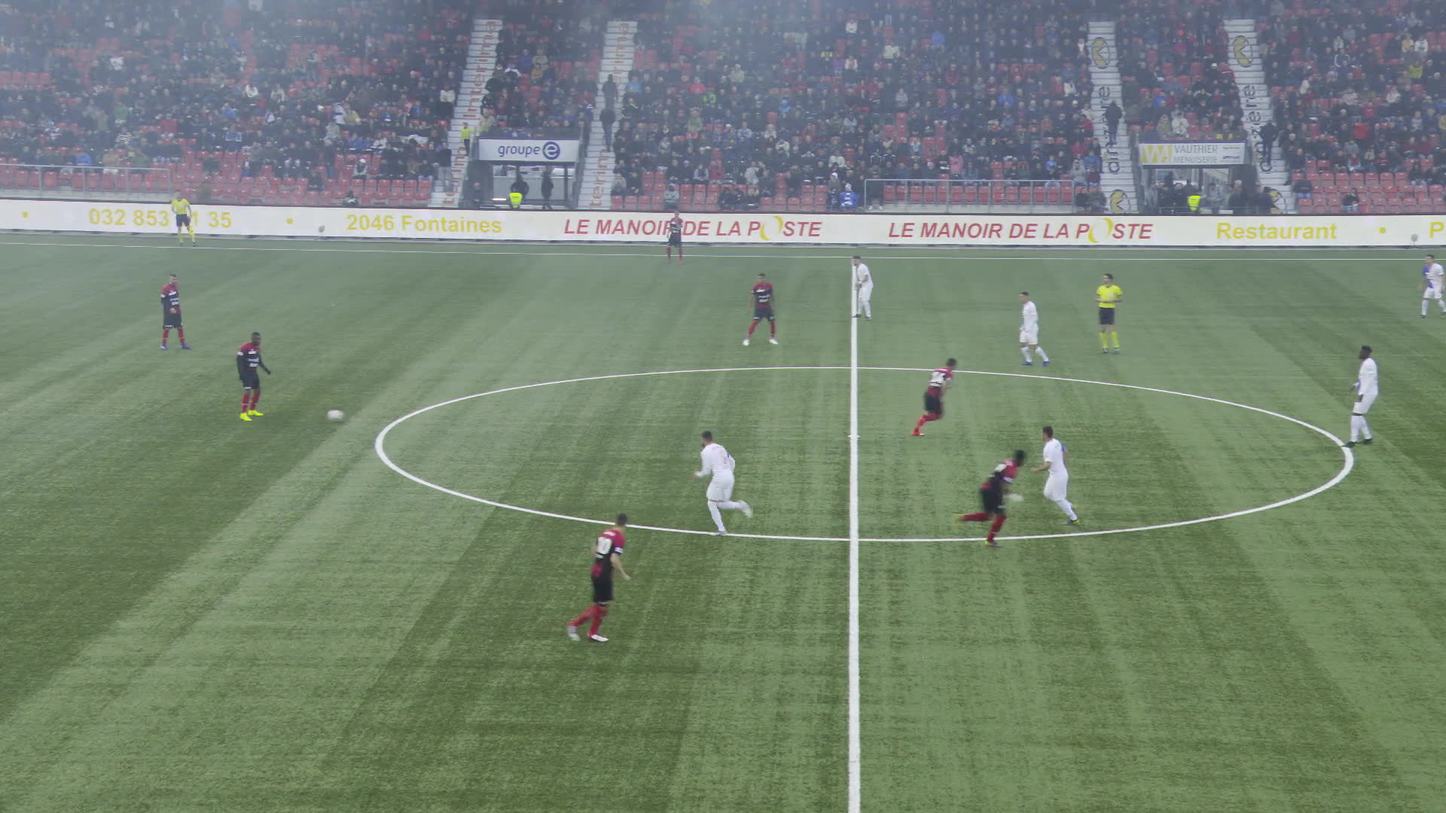ball: (337, 410, 352, 421)
player: (557, 511, 634, 641), (939, 447, 1017, 545), (698, 430, 756, 540), (1040, 424, 1093, 525), (889, 356, 953, 434), (1340, 344, 1374, 447), (233, 331, 266, 419), (740, 271, 776, 346), (154, 273, 185, 349), (1012, 288, 1040, 366), (1414, 254, 1436, 317), (850, 254, 871, 320), (664, 210, 682, 263)
referee: (1088, 273, 1120, 355), (169, 192, 194, 245)
